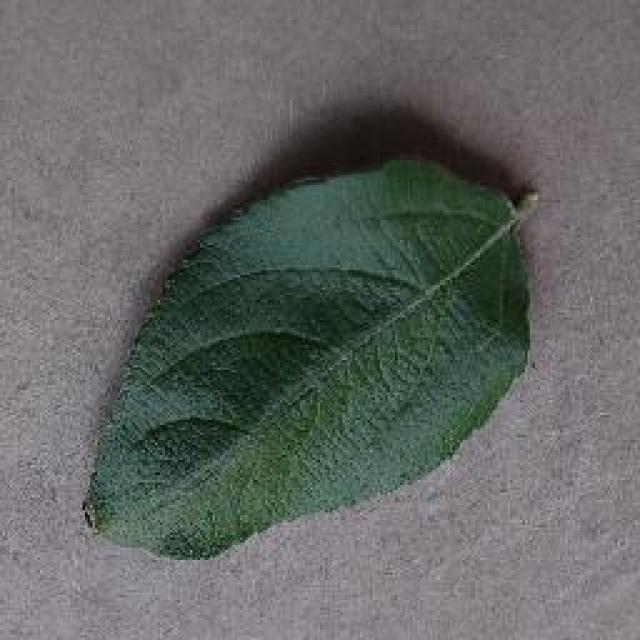apple healthy: (80, 148, 540, 562)
